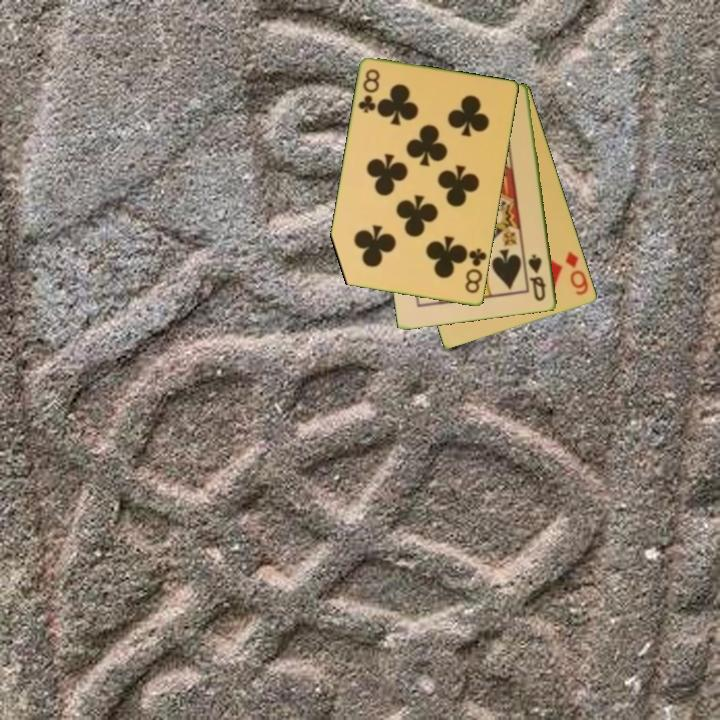6d: (562, 248, 591, 298)
8c: (355, 65, 383, 116), (462, 245, 489, 297)
Qs: (525, 251, 549, 304)
